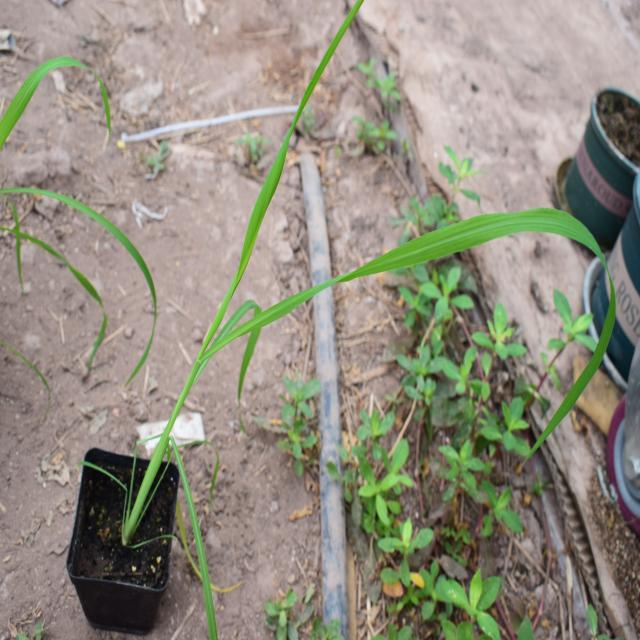barnyard_grass: (176, 0, 624, 491)
